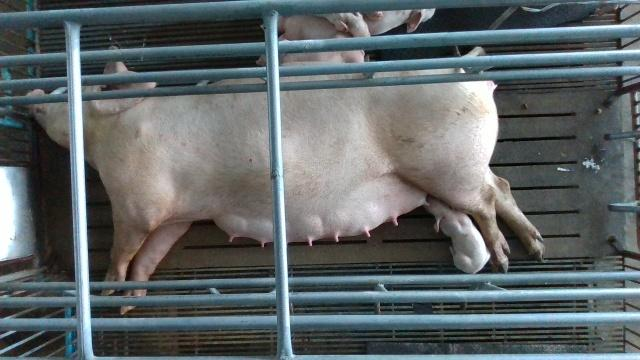piglet: (424, 198, 492, 275), (259, 15, 365, 40), (258, 48, 365, 68), (365, 7, 437, 35)
sow-sleep-lactate: (23, 45, 545, 315)
